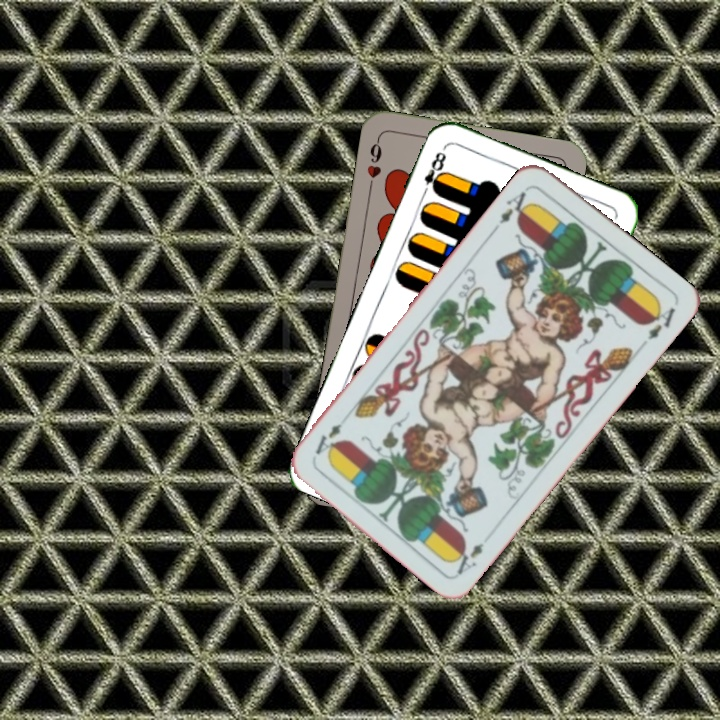E8: (418, 144, 449, 200)
EA: (489, 183, 535, 234), (450, 539, 486, 578)
H9: (363, 134, 385, 193)
